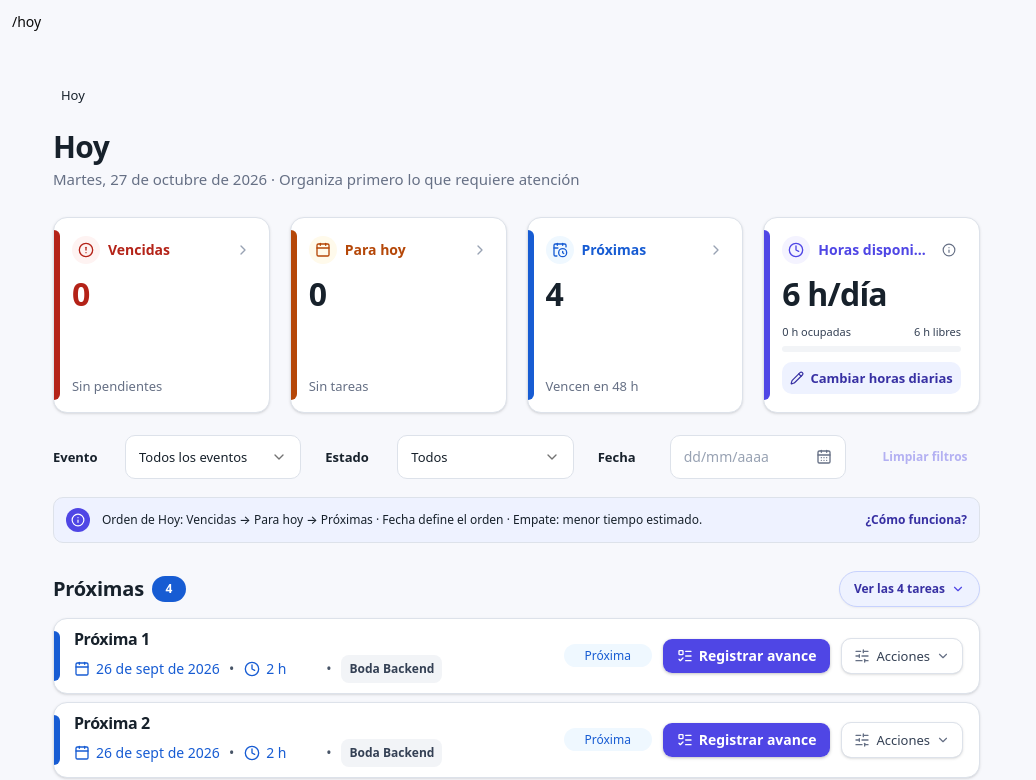
Test case: TodayPage › colapsa una sección si supera 3 tareas
Expected: the text "Próxima 1" is shown, [74,629,150,649]
Expected: the text "Próxima 2" is shown, [74,713,150,733]
Click the button with aria-label "Ver todas las tareas de Próximas (4)": coordinates (910, 589) [839,571,980,607]
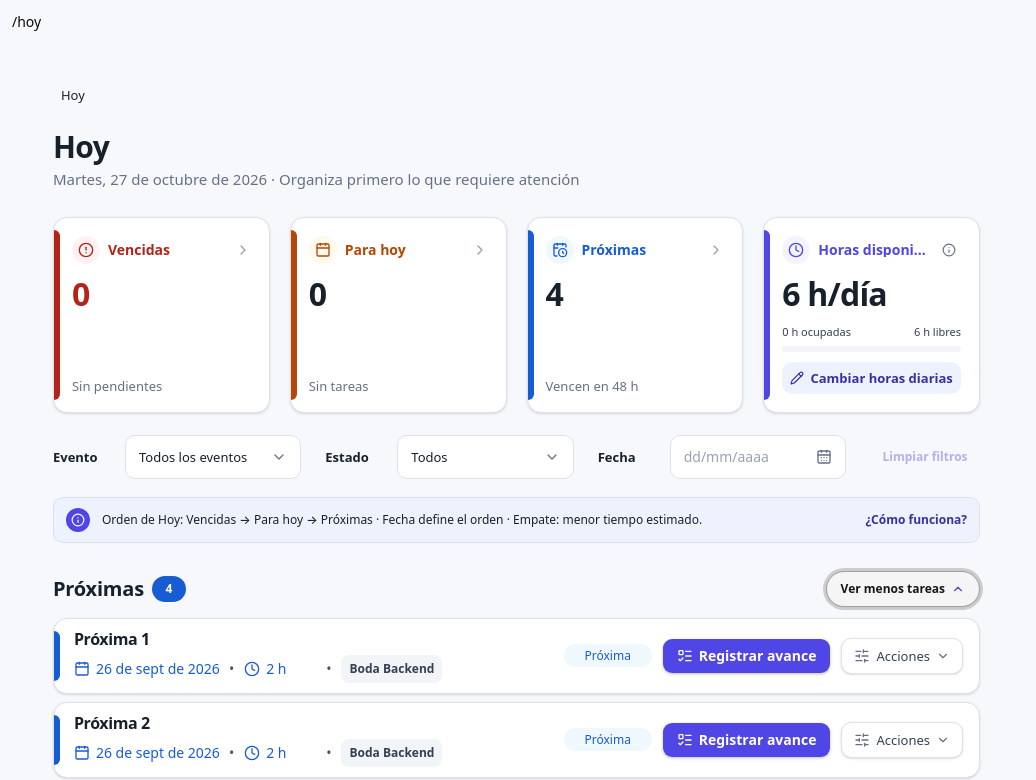
Expected: the button with aria-label "Ver menos tareas de Próximas" is shown, [826,571,980,607]
